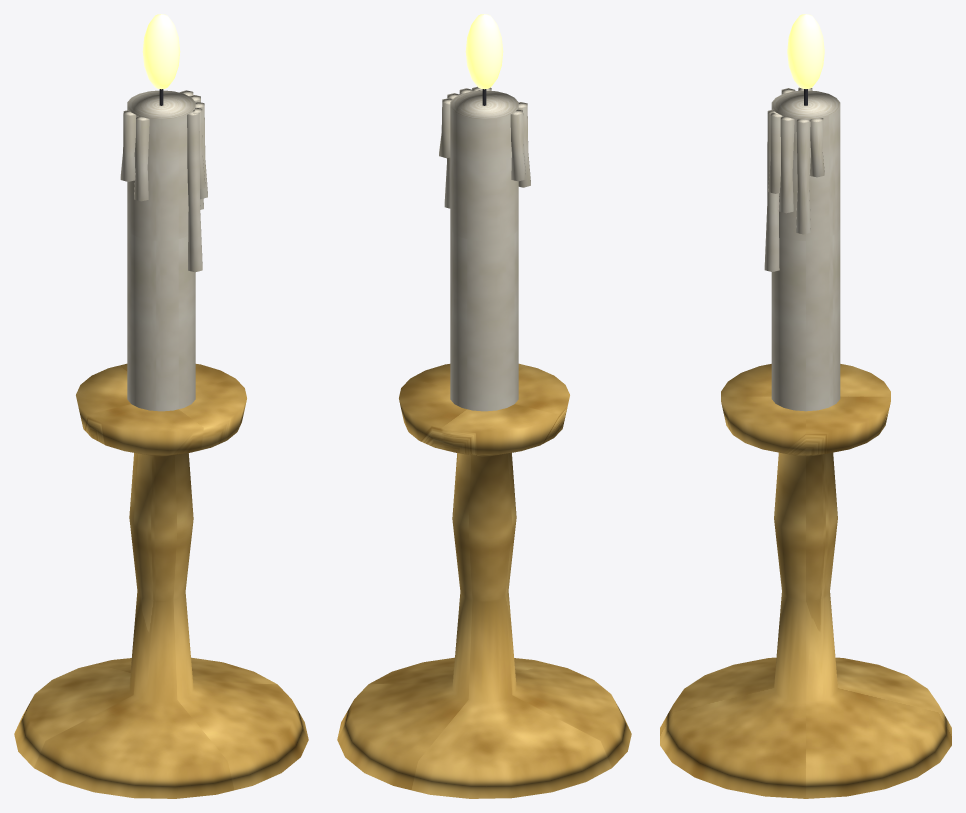
File: 燭台と蝋燭_candle.glb
The picture shows the model from 3 angles, left to right: view 1: azimuth 30°, elevation 25°; view 2: azimuth 150°, elevation 25°; view 3: azimuth 270°, elevation 25°; orthographic projection.
Visible parts, largest first — view 1: candle; view 2: candle; view 3: candle.
Boxes of the visible parts, x1,y1,x2,y2 form: candle: (14,14,308,798); candle: (337,14,631,798); candle: (660,14,951,798).
Size of the model in its own units: 0.11 by 0.2974 by 0.1089.
Materials: 4 (2 with a texture image).
